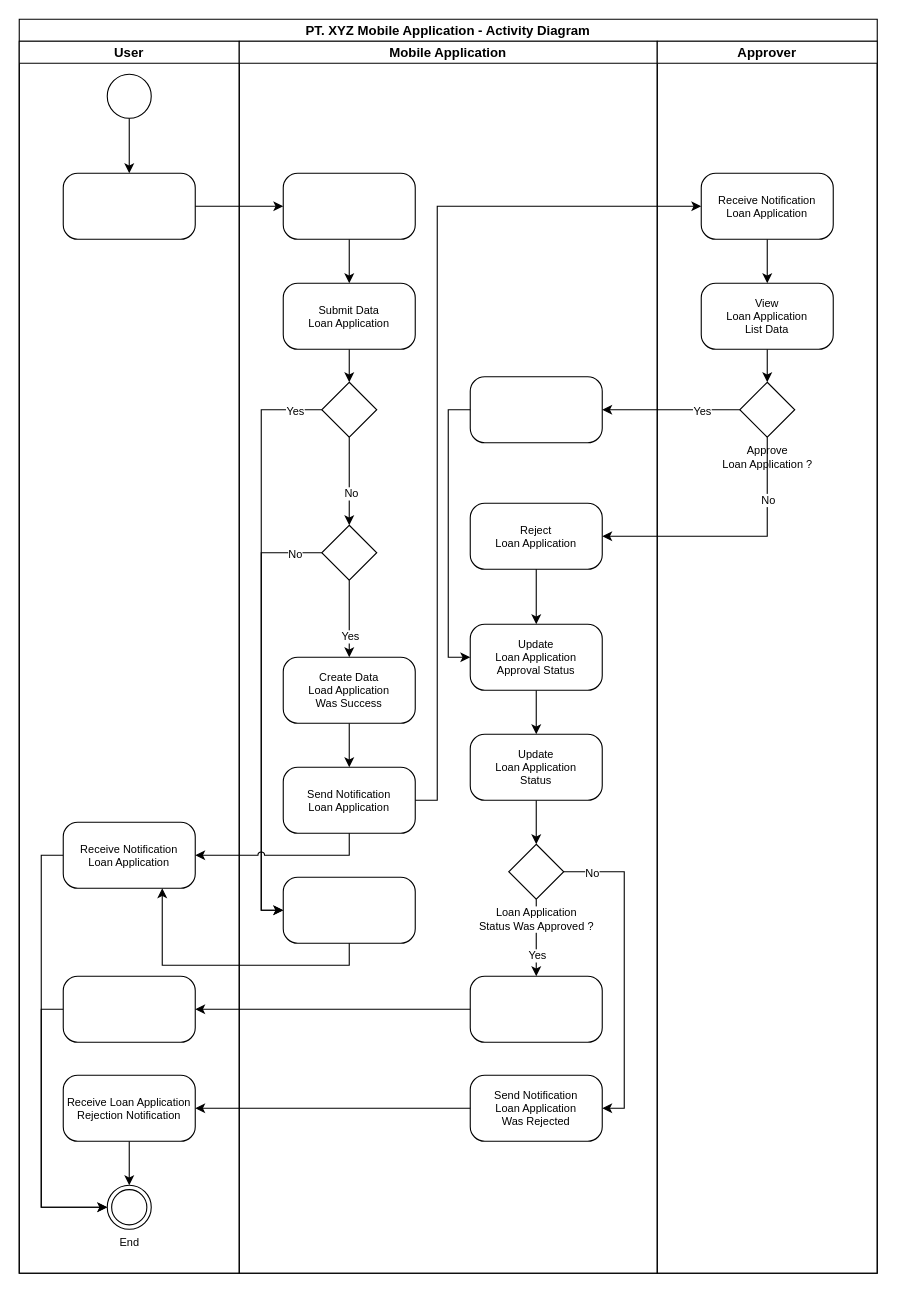
This 897x1293 diagram has some shape labels left out. Each missing label, with the centre of its shape:
"Already Have On Going Loan Application ?" belongs at [349,409].
"Approve Loan Application" belongs at [535,409].
"Fill Data Loan Application" belongs at [348,205].
"Loan Application <= 12million ?" belongs at [349,552].
"Receive Notification Loan Application Was Approved Via Email & SMS" belongs at [128,1008].
"Request Loan Application" belongs at [128,205].
"Send Email & SMS Notification Loan Application" belongs at [535,1008].
"Send Notification Loan Application Can't Request" belongs at [348,909].
"Start" belongs at [128,95].
